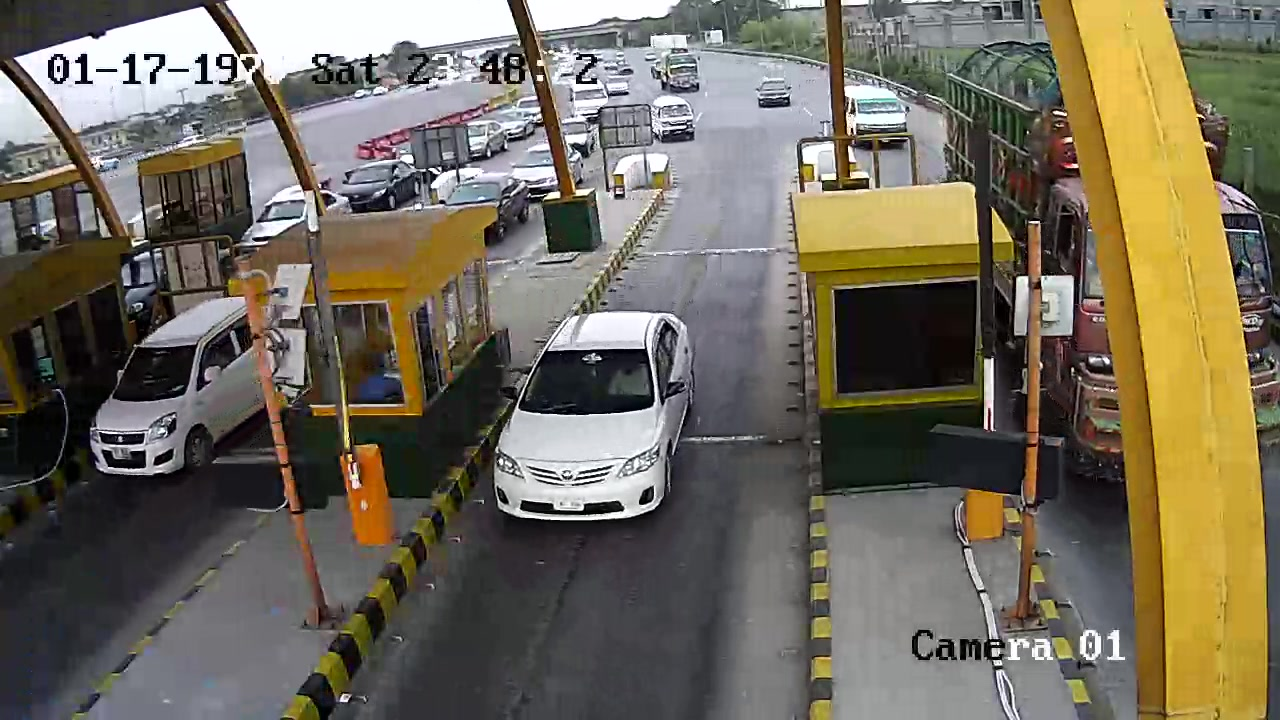F1: (478, 296, 713, 535)
